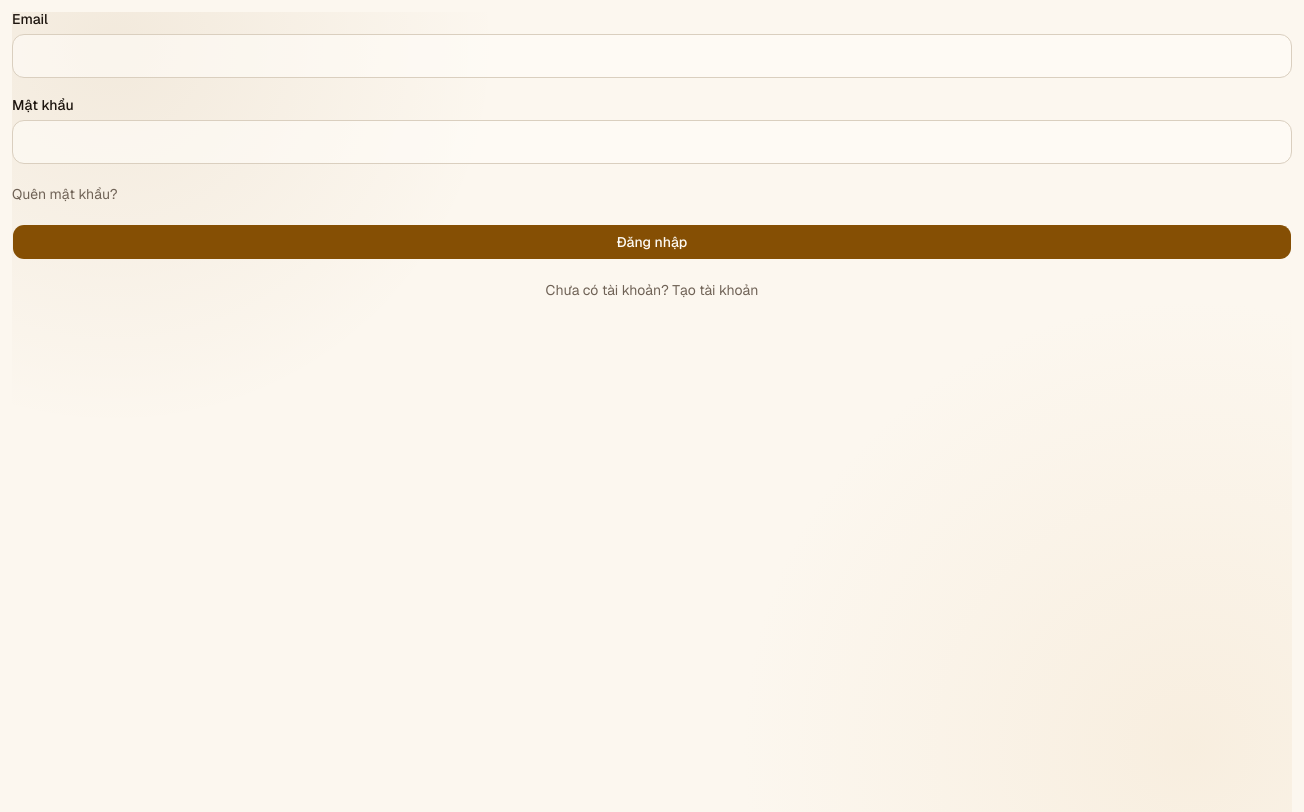
Test: LoginForm › shows field-level errors for an invalid email and short password
Click the button "Đăng nhập": (652, 242) [12,224,1292,260]
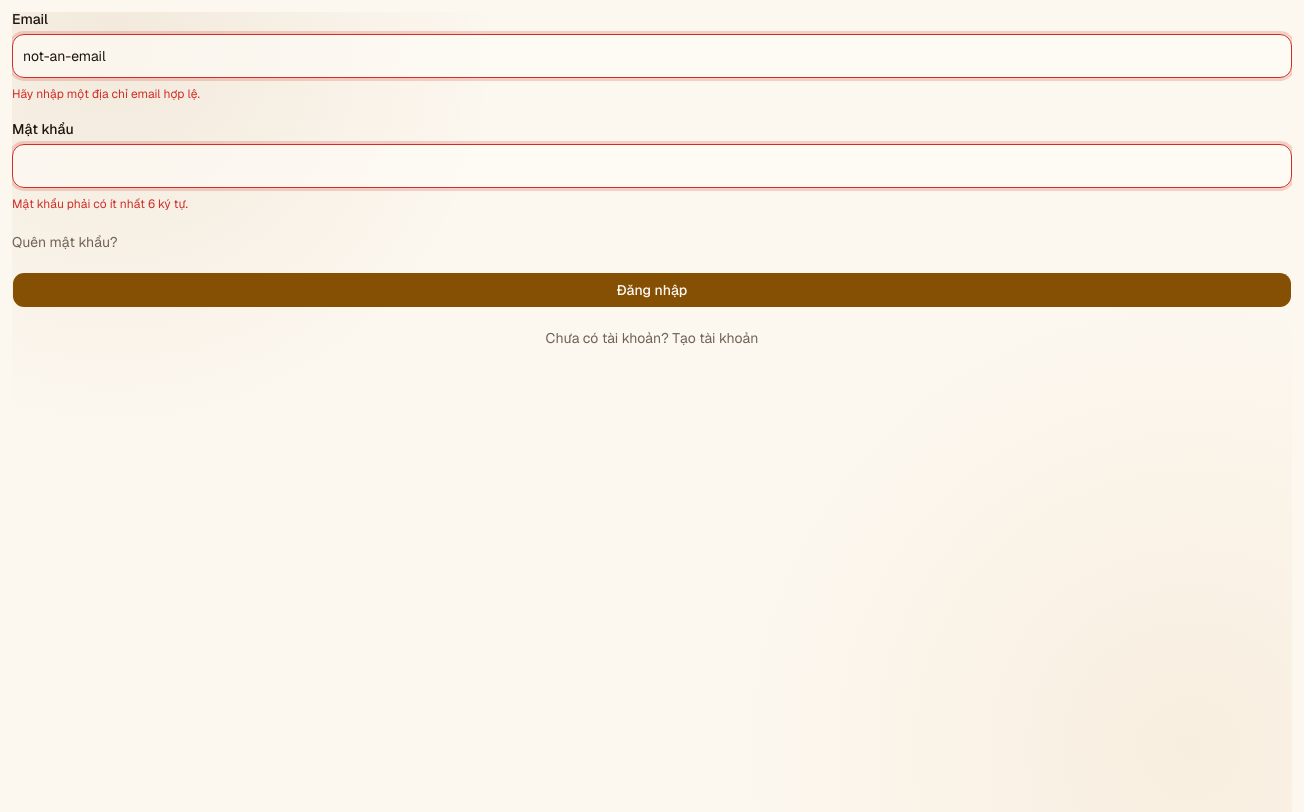
Expected: the text "Hãy nhập một địa chỉ email hợp lệ." is shown, [12,86,200,102]
Expected: the text "Mật khẩu phải có ít nhất 6 ký tự." is shown, [12,196,188,212]
